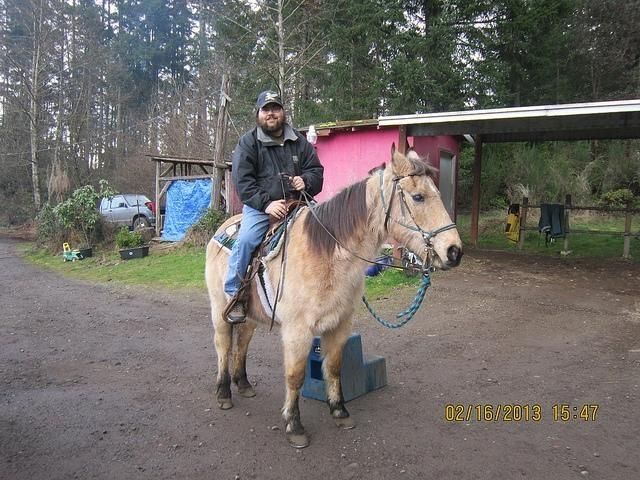car: (98, 194, 156, 230)
truck: (98, 193, 156, 230)
